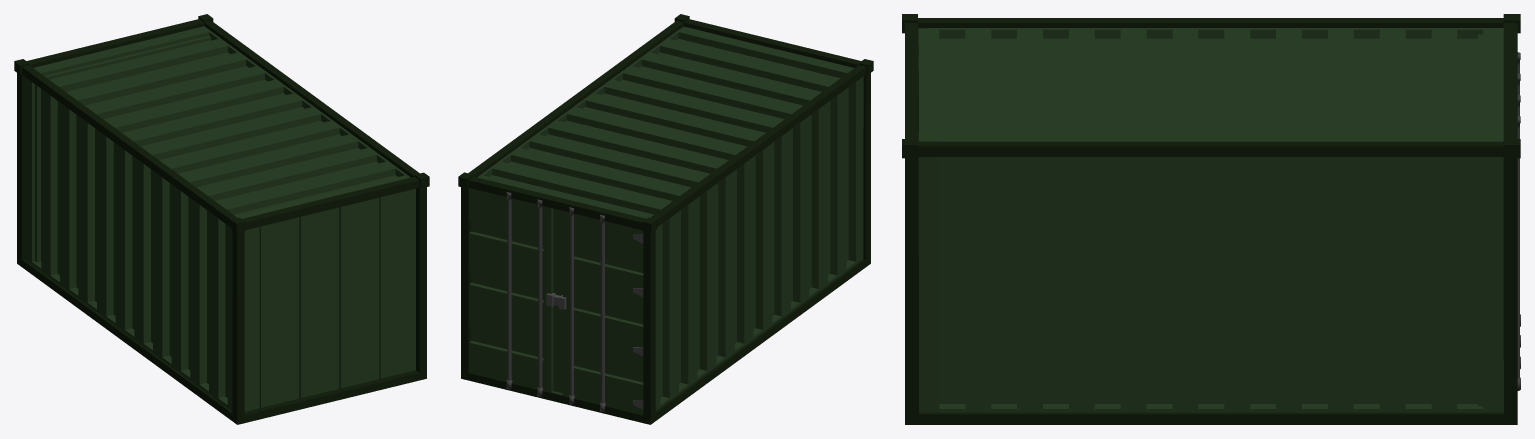
Rendered from Container.fbx.
The picture shows the model from 3 angles, left to right: view 1: azimuth 30°, elevation 25°; view 2: azimuth 150°, elevation 25°; view 3: azimuth 270°, elevation 25°; orthographic projection. The views are drawn at different scales.
Visible parts, largest first — view 1: Cube.008, Cube.002; view 2: Cube.008, Cube.002, Voorkant, Cube.007; view 3: Cube.008, Cube.002, Voorkant.
Boxes of the visible parts, left/top/right/bottom form: Cube.008: left=24, top=26, right=415, bottom=411; Cube.002: left=14, top=14, right=429, bottom=424; Cube.008: left=469, top=26, right=863, bottom=414; Cube.002: left=458, top=14, right=873, bottom=424; Voorkant: left=506, top=192, right=605, bottom=412; Cube.007: left=546, top=234, right=643, bottom=409; Cube.008: left=918, top=28, right=1503, bottom=412; Cube.002: left=902, top=14, right=1520, bottom=424; Voorkant: left=1517, top=52, right=1520, bottom=390.
Bounding box in the file's own units: 300 × 300 × 598.
